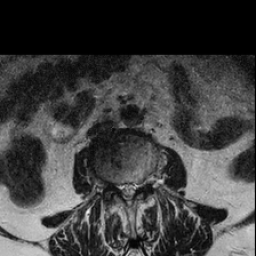CCS_normal: (124, 175, 131, 211)
LFS_stenosis: (138, 171, 145, 195)
LLS_normal: (131, 175, 138, 202)
RFS_severe_stenosis: (108, 172, 116, 193)
RLS_severe_stenosis: (116, 175, 124, 199)
